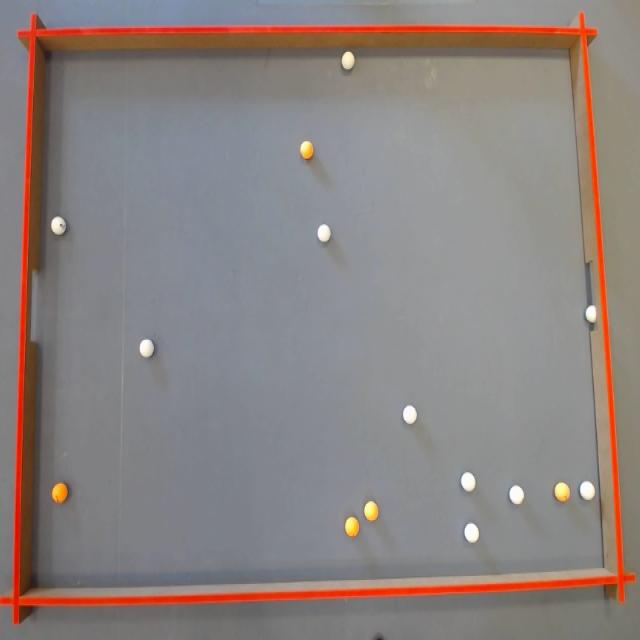orange_ball: (52, 482, 68, 503), (554, 482, 570, 502), (364, 501, 378, 521), (345, 516, 359, 536), (300, 141, 313, 159)
white_ball: (460, 472, 476, 492), (580, 481, 595, 501), (464, 523, 479, 543), (139, 339, 154, 358), (51, 217, 66, 236), (510, 485, 524, 505), (402, 406, 417, 424), (342, 51, 354, 70), (318, 224, 330, 242), (585, 305, 597, 323)
